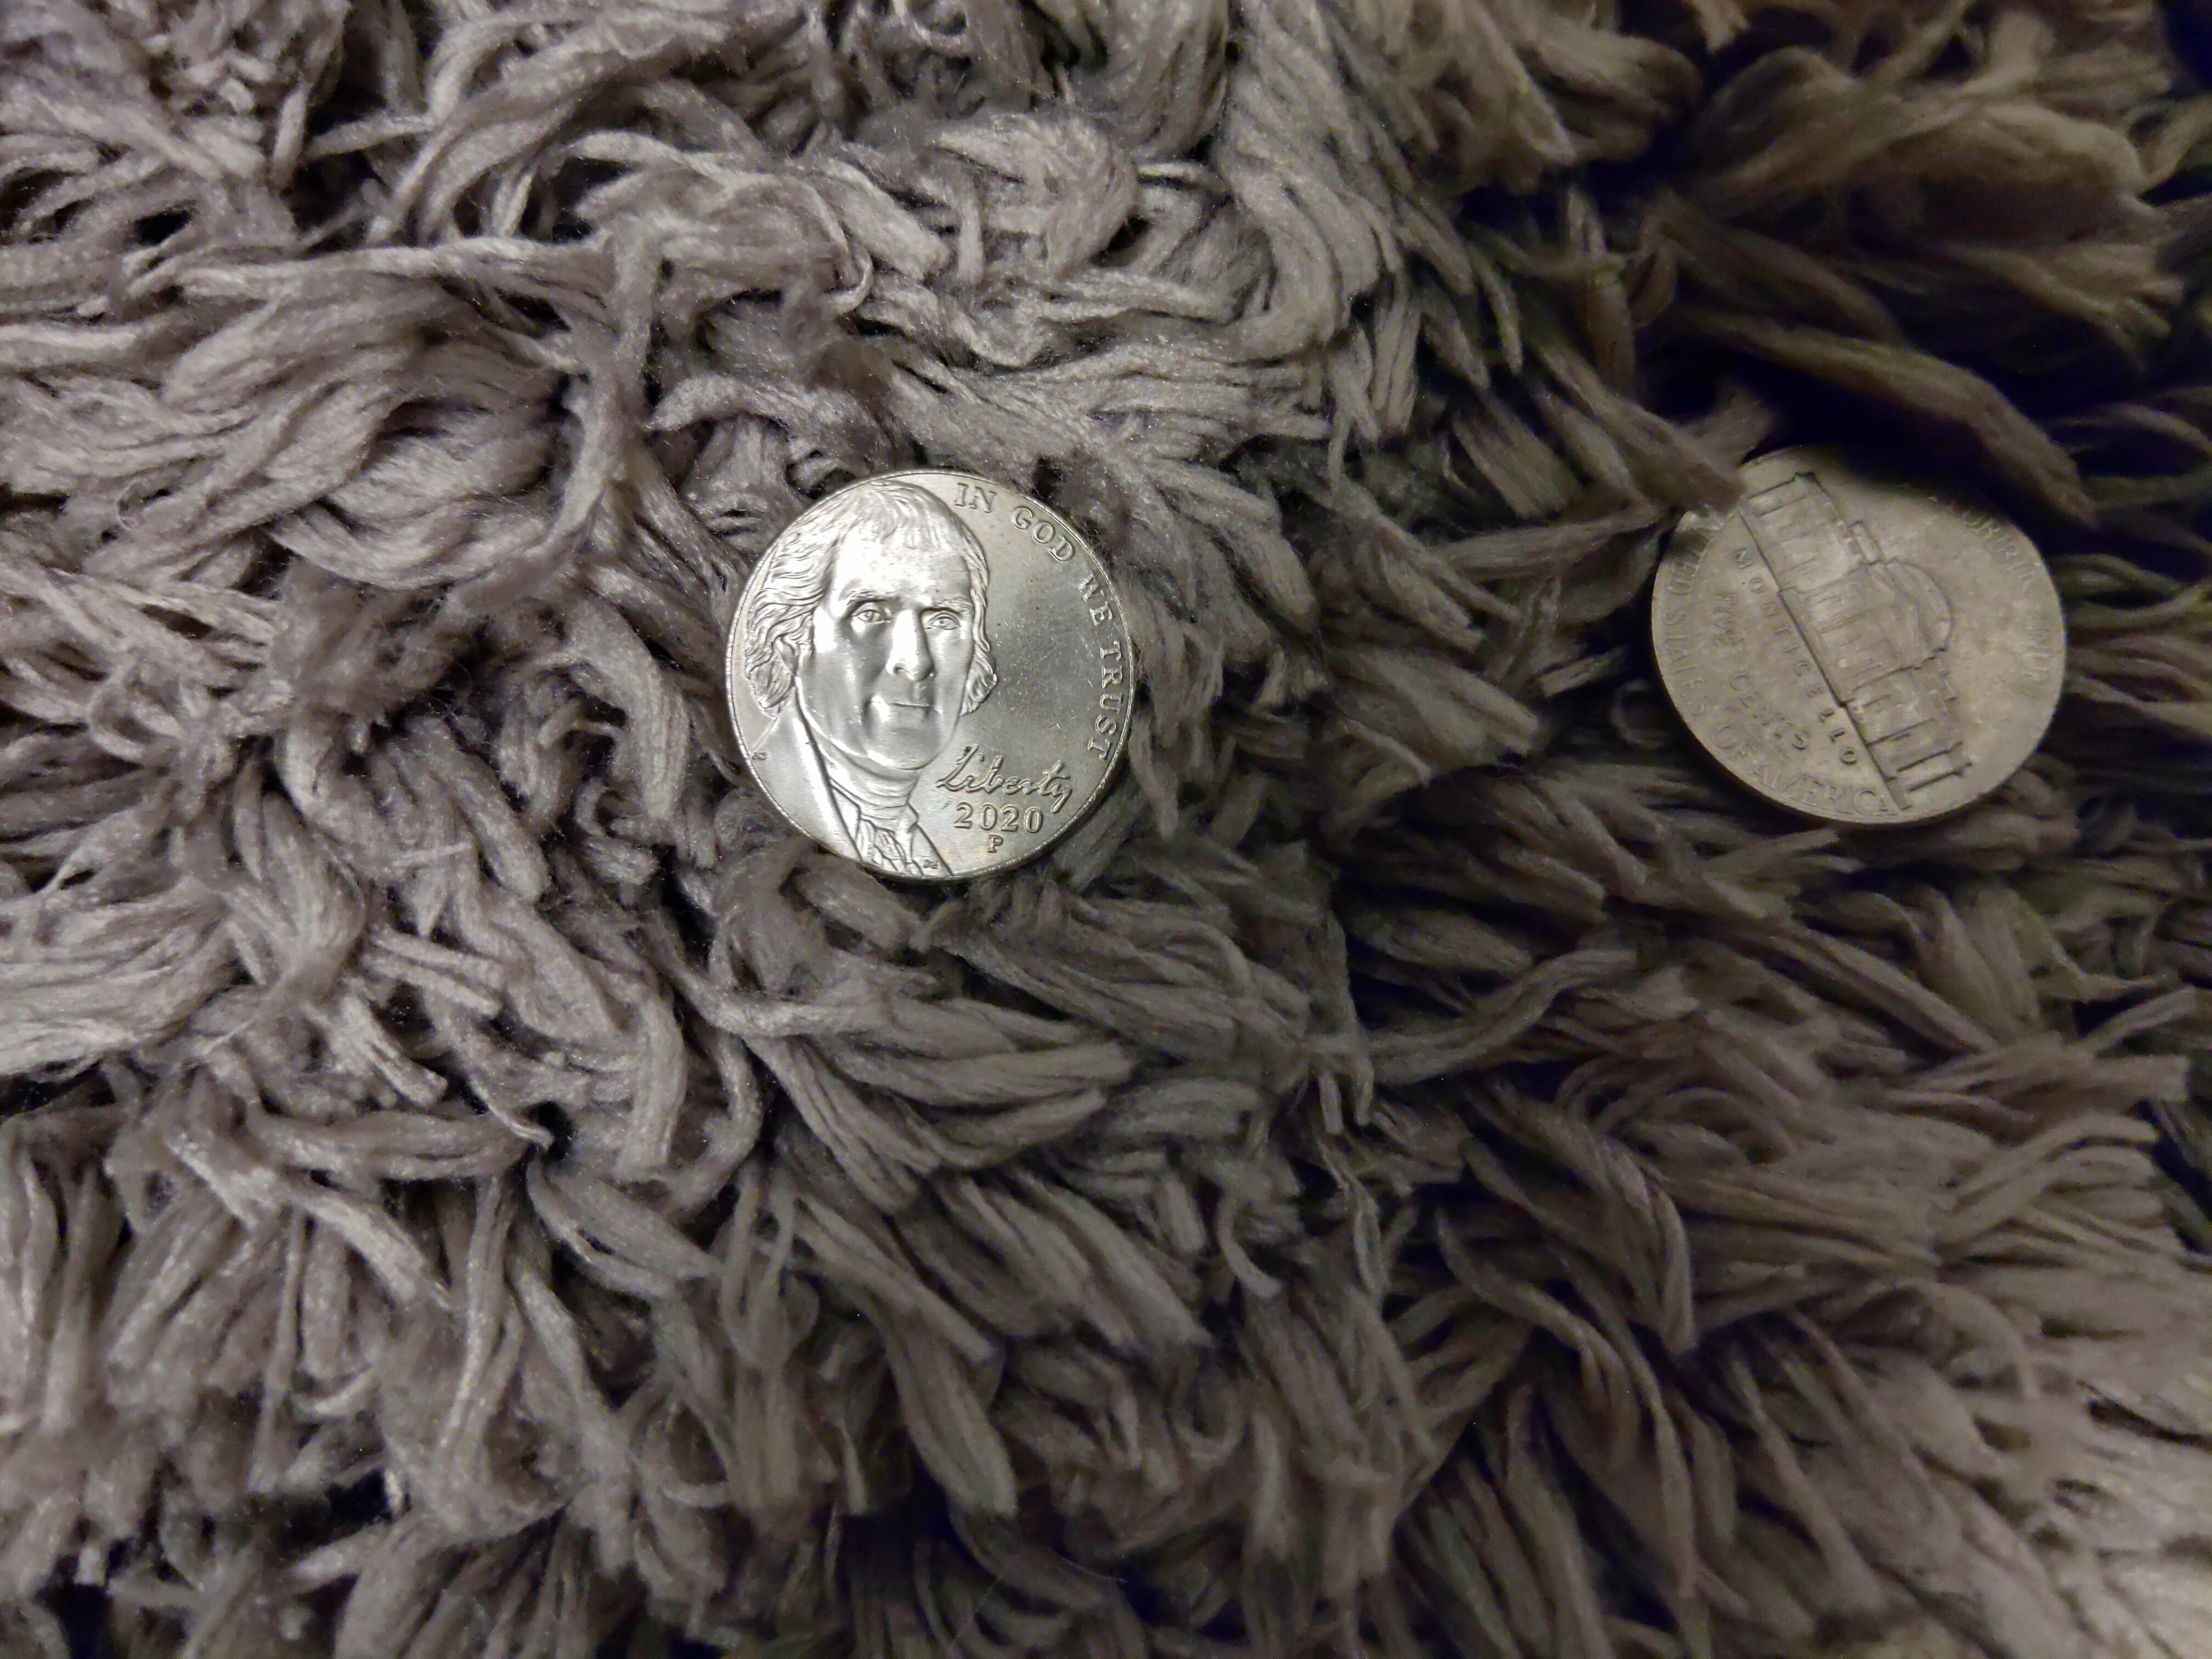Nickel: (721, 465, 1141, 885), (1648, 429, 2073, 835)
